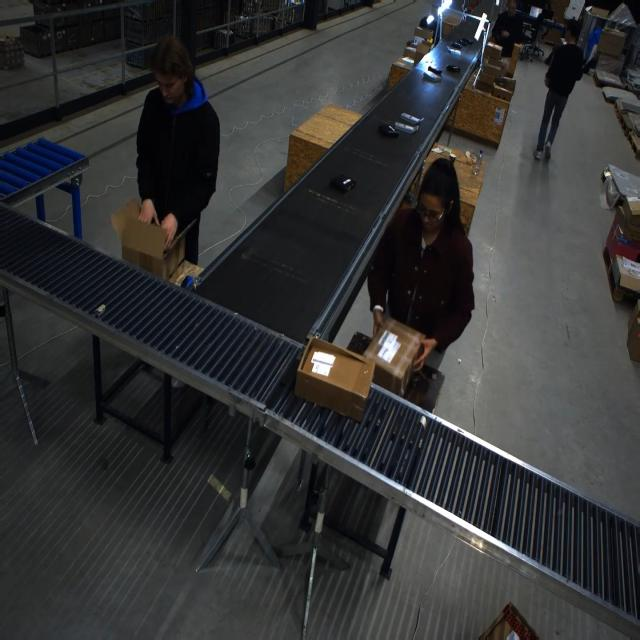box: (109, 198, 193, 283), (294, 336, 370, 421), (368, 316, 429, 396), (588, 7, 609, 18)
product: (329, 174, 357, 194), (392, 122, 417, 134), (378, 124, 399, 138), (399, 113, 423, 125), (422, 70, 442, 81), (446, 64, 460, 72), (428, 66, 442, 74), (448, 47, 461, 55), (451, 42, 461, 49)
